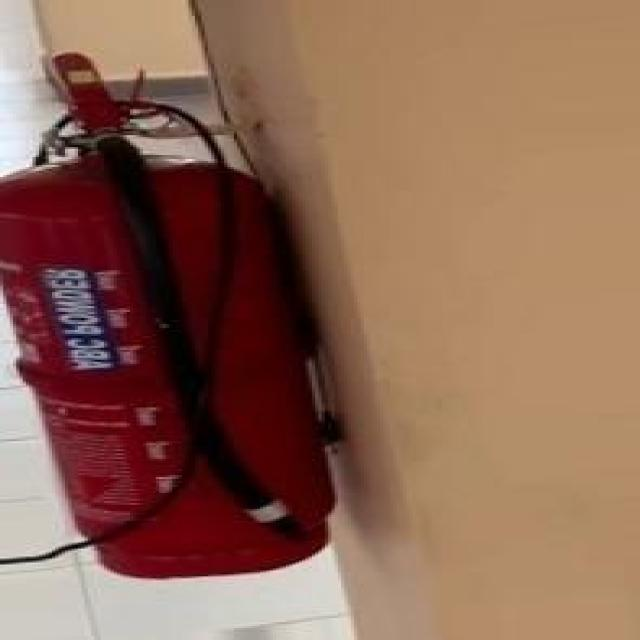fire_extinguisher: (0, 46, 348, 580)
